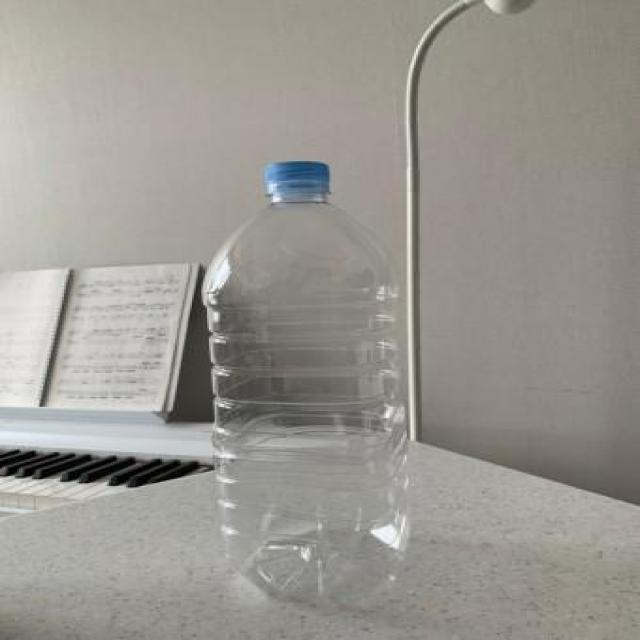bottle: (188, 141, 423, 630)
